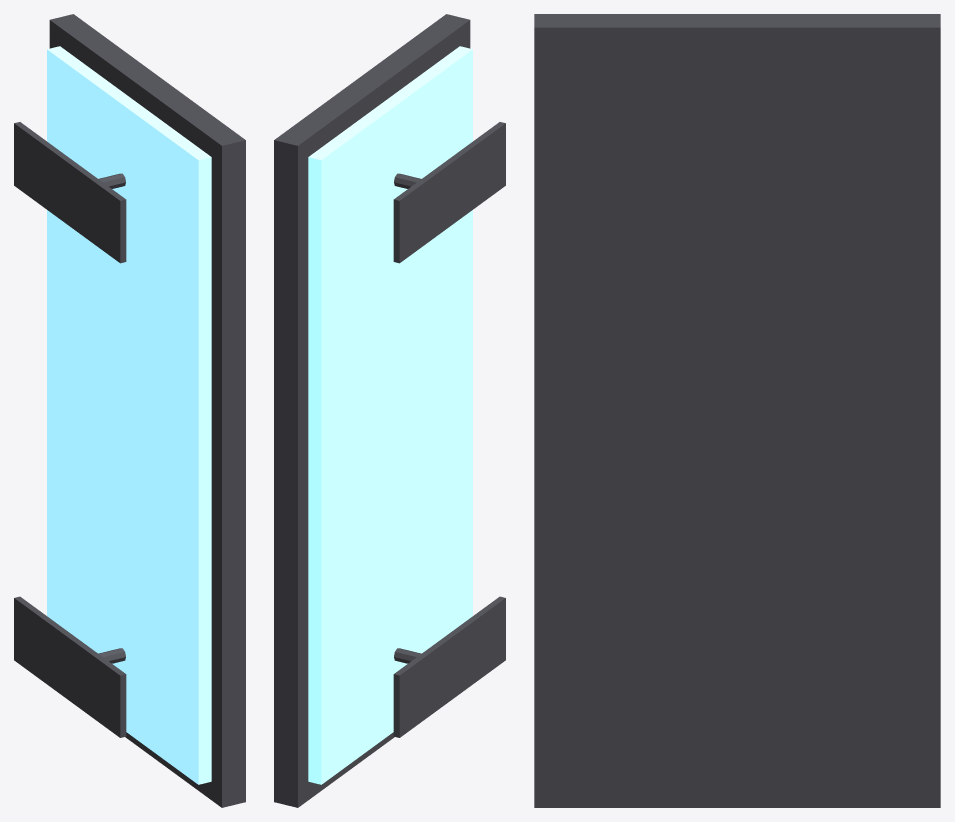
File: bt-fh6-sign-blue.glb
The picture shows the model from 3 angles, left to right: view 1: azimuth 30°, elevation 25°; view 2: azimuth 150°, elevation 25°; view 3: azimuth 270°, elevation 25°; orthographic projection. The views are drawn at different scales.
Visible parts, largest first — view 1: bt-fh6-sign-blue_board, bt-fh6-sign-blue_frame, bt-fh6-sign-blue_bar1.2, bt-fh6-sign-blue_bar5.0; view 2: bt-fh6-sign-blue_board, bt-fh6-sign-blue_frame, bt-fh6-sign-blue_bar1.2, bt-fh6-sign-blue_bar5.0; view 3: bt-fh6-sign-blue_frame.
Boxes of the visible parts, left/top/right/bottom form: bt-fh6-sign-blue_board: left=47, top=46, right=211, bottom=784; bt-fh6-sign-blue_frame: left=49, top=14, right=245, bottom=807; bt-fh6-sign-blue_bar1.2: left=14, top=596, right=126, bottom=737; bt-fh6-sign-blue_bar5.0: left=14, top=122, right=126, bottom=263; bt-fh6-sign-blue_board: left=308, top=46, right=472, bottom=784; bt-fh6-sign-blue_frame: left=274, top=14, right=470, bottom=807; bt-fh6-sign-blue_bar1.2: left=393, top=596, right=505, bottom=737; bt-fh6-sign-blue_bar5.0: left=393, top=122, right=505, bottom=263; bt-fh6-sign-blue_frame: left=534, top=14, right=940, bottom=807.
Bounding box in the file's own units: 0.775 × 5.3 × 2.5.
